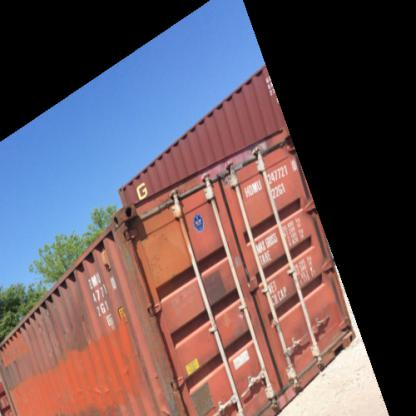Damage: (28, 316, 84, 364), (69, 383, 123, 410), (148, 377, 170, 415), (113, 356, 134, 381), (1, 352, 21, 378)
